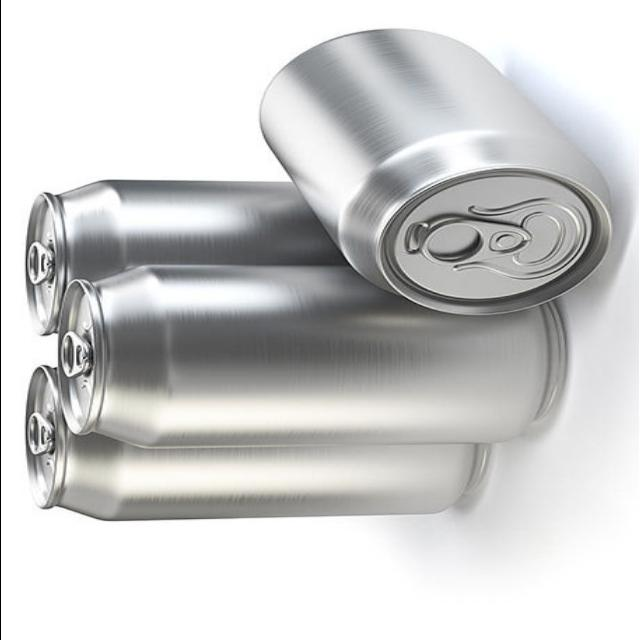can: (220, 12, 620, 334), (49, 246, 571, 464)
